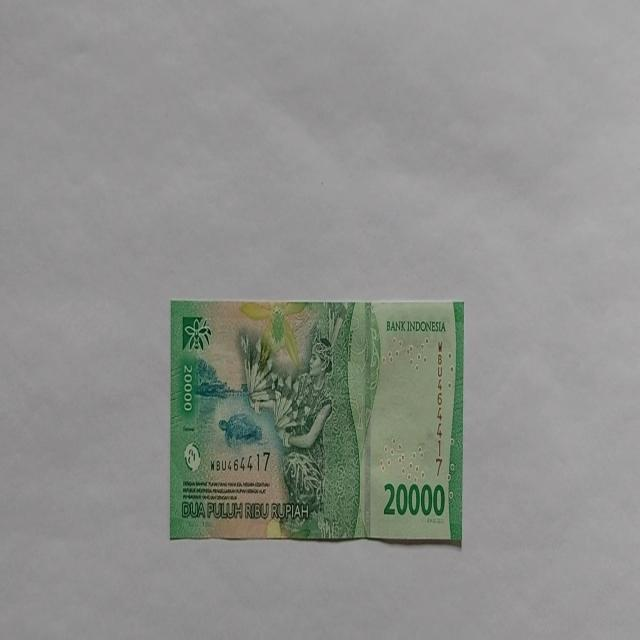dua puluh ribu rupiah: (169, 298, 465, 546)
